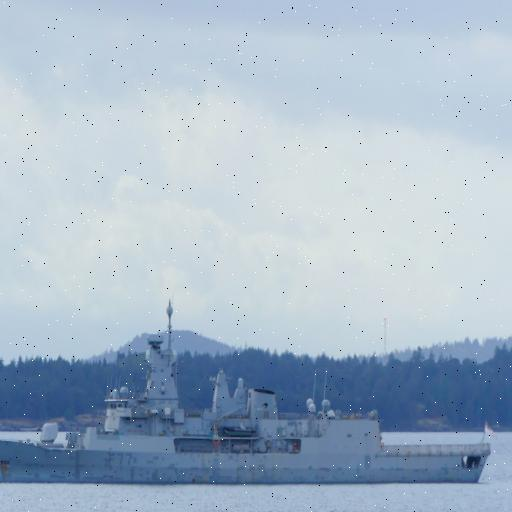Fragata: (1, 286, 494, 492)
